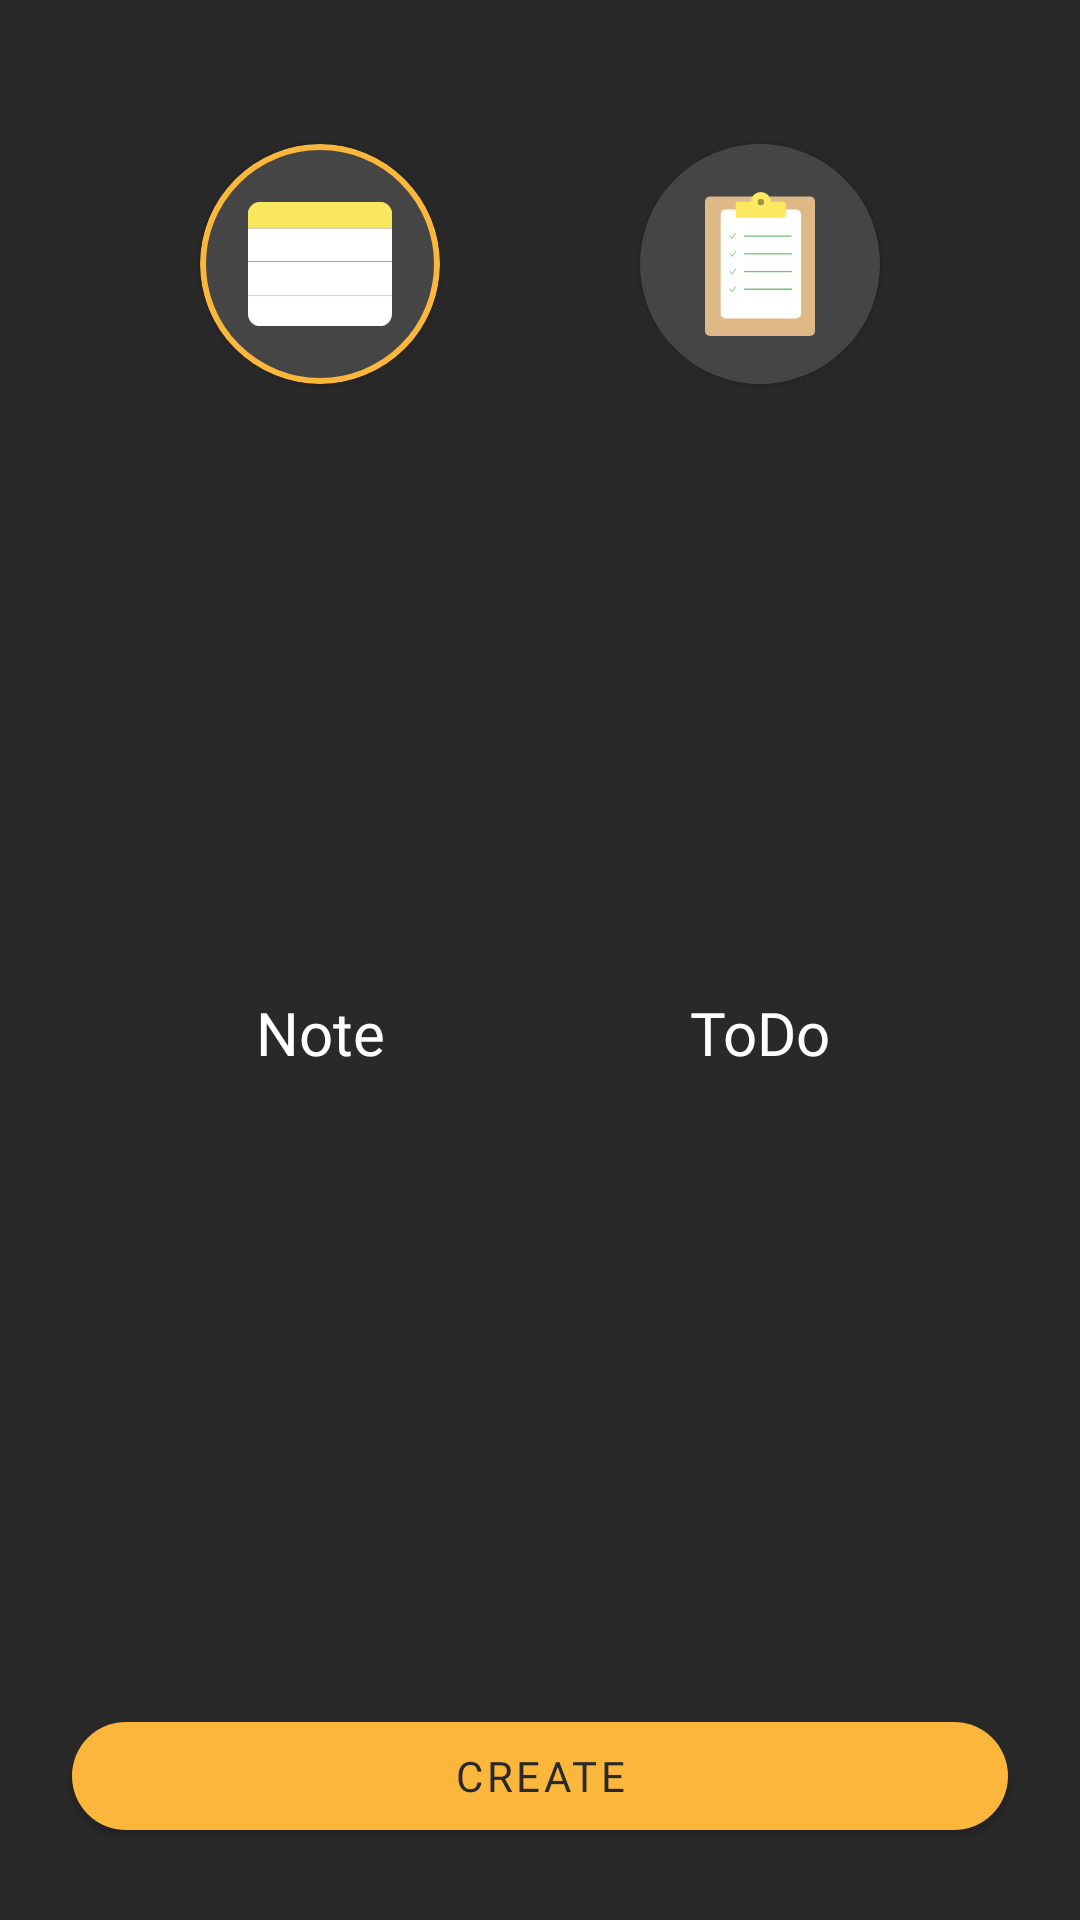

Screen size 1080 x 1920. Icon name, then its center in pixels as (x=x, y=y):
Notes: (x=320, y=264)
todo selection: (x=760, y=264)
